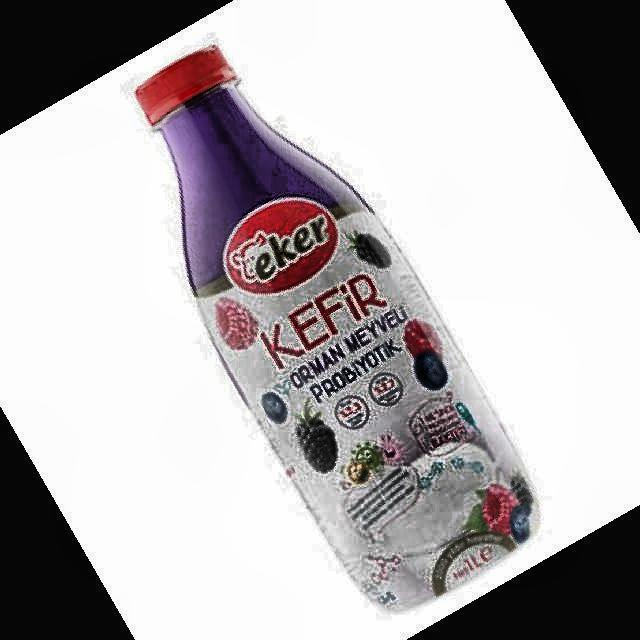plastic: (136, 48, 538, 609)
